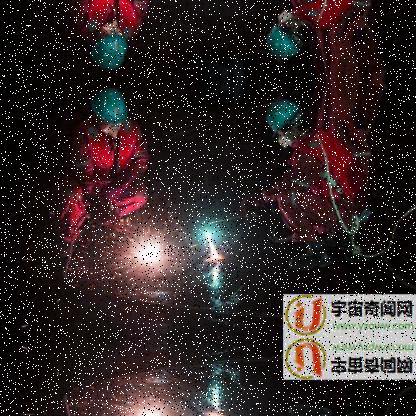Helmet: (86, 80, 131, 144), (258, 94, 310, 147), (262, 16, 312, 66), (88, 25, 131, 77)
